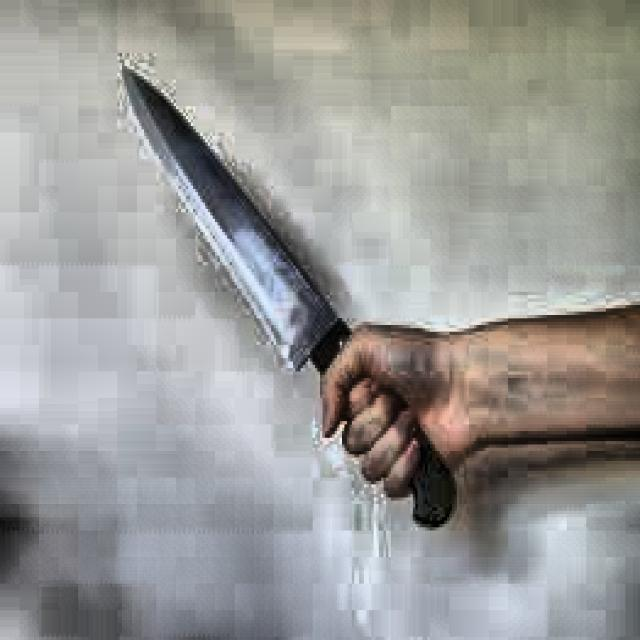knife: (124, 67, 458, 532)
